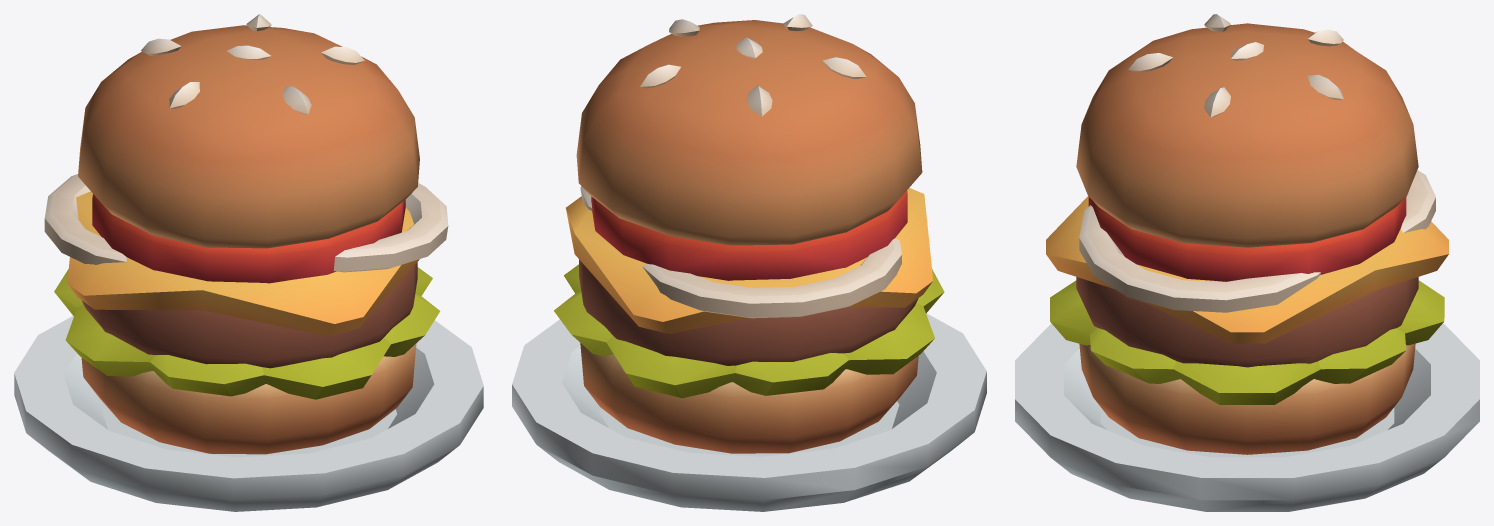
The model's file is prop_burger.glb.
3 renders of one model, left to right at view 1: azimuth 30°, elevation 25°; view 2: azimuth 150°, elevation 25°; view 3: azimuth 270°, elevation 25°, orthographic.
Parts seen in each view (by area): view 1: food_burger; view 2: food_burger; view 3: food_burger.
Boxes of the visible parts, x1,y1,x2,y2 form: food_burger: (14, 14, 483, 511); food_burger: (512, 14, 986, 511); food_burger: (1015, 14, 1479, 511).
Bounding box in the file's own units: 0.95 × 0.8572 × 0.95.
Materials: 1 (1 with a texture image).
